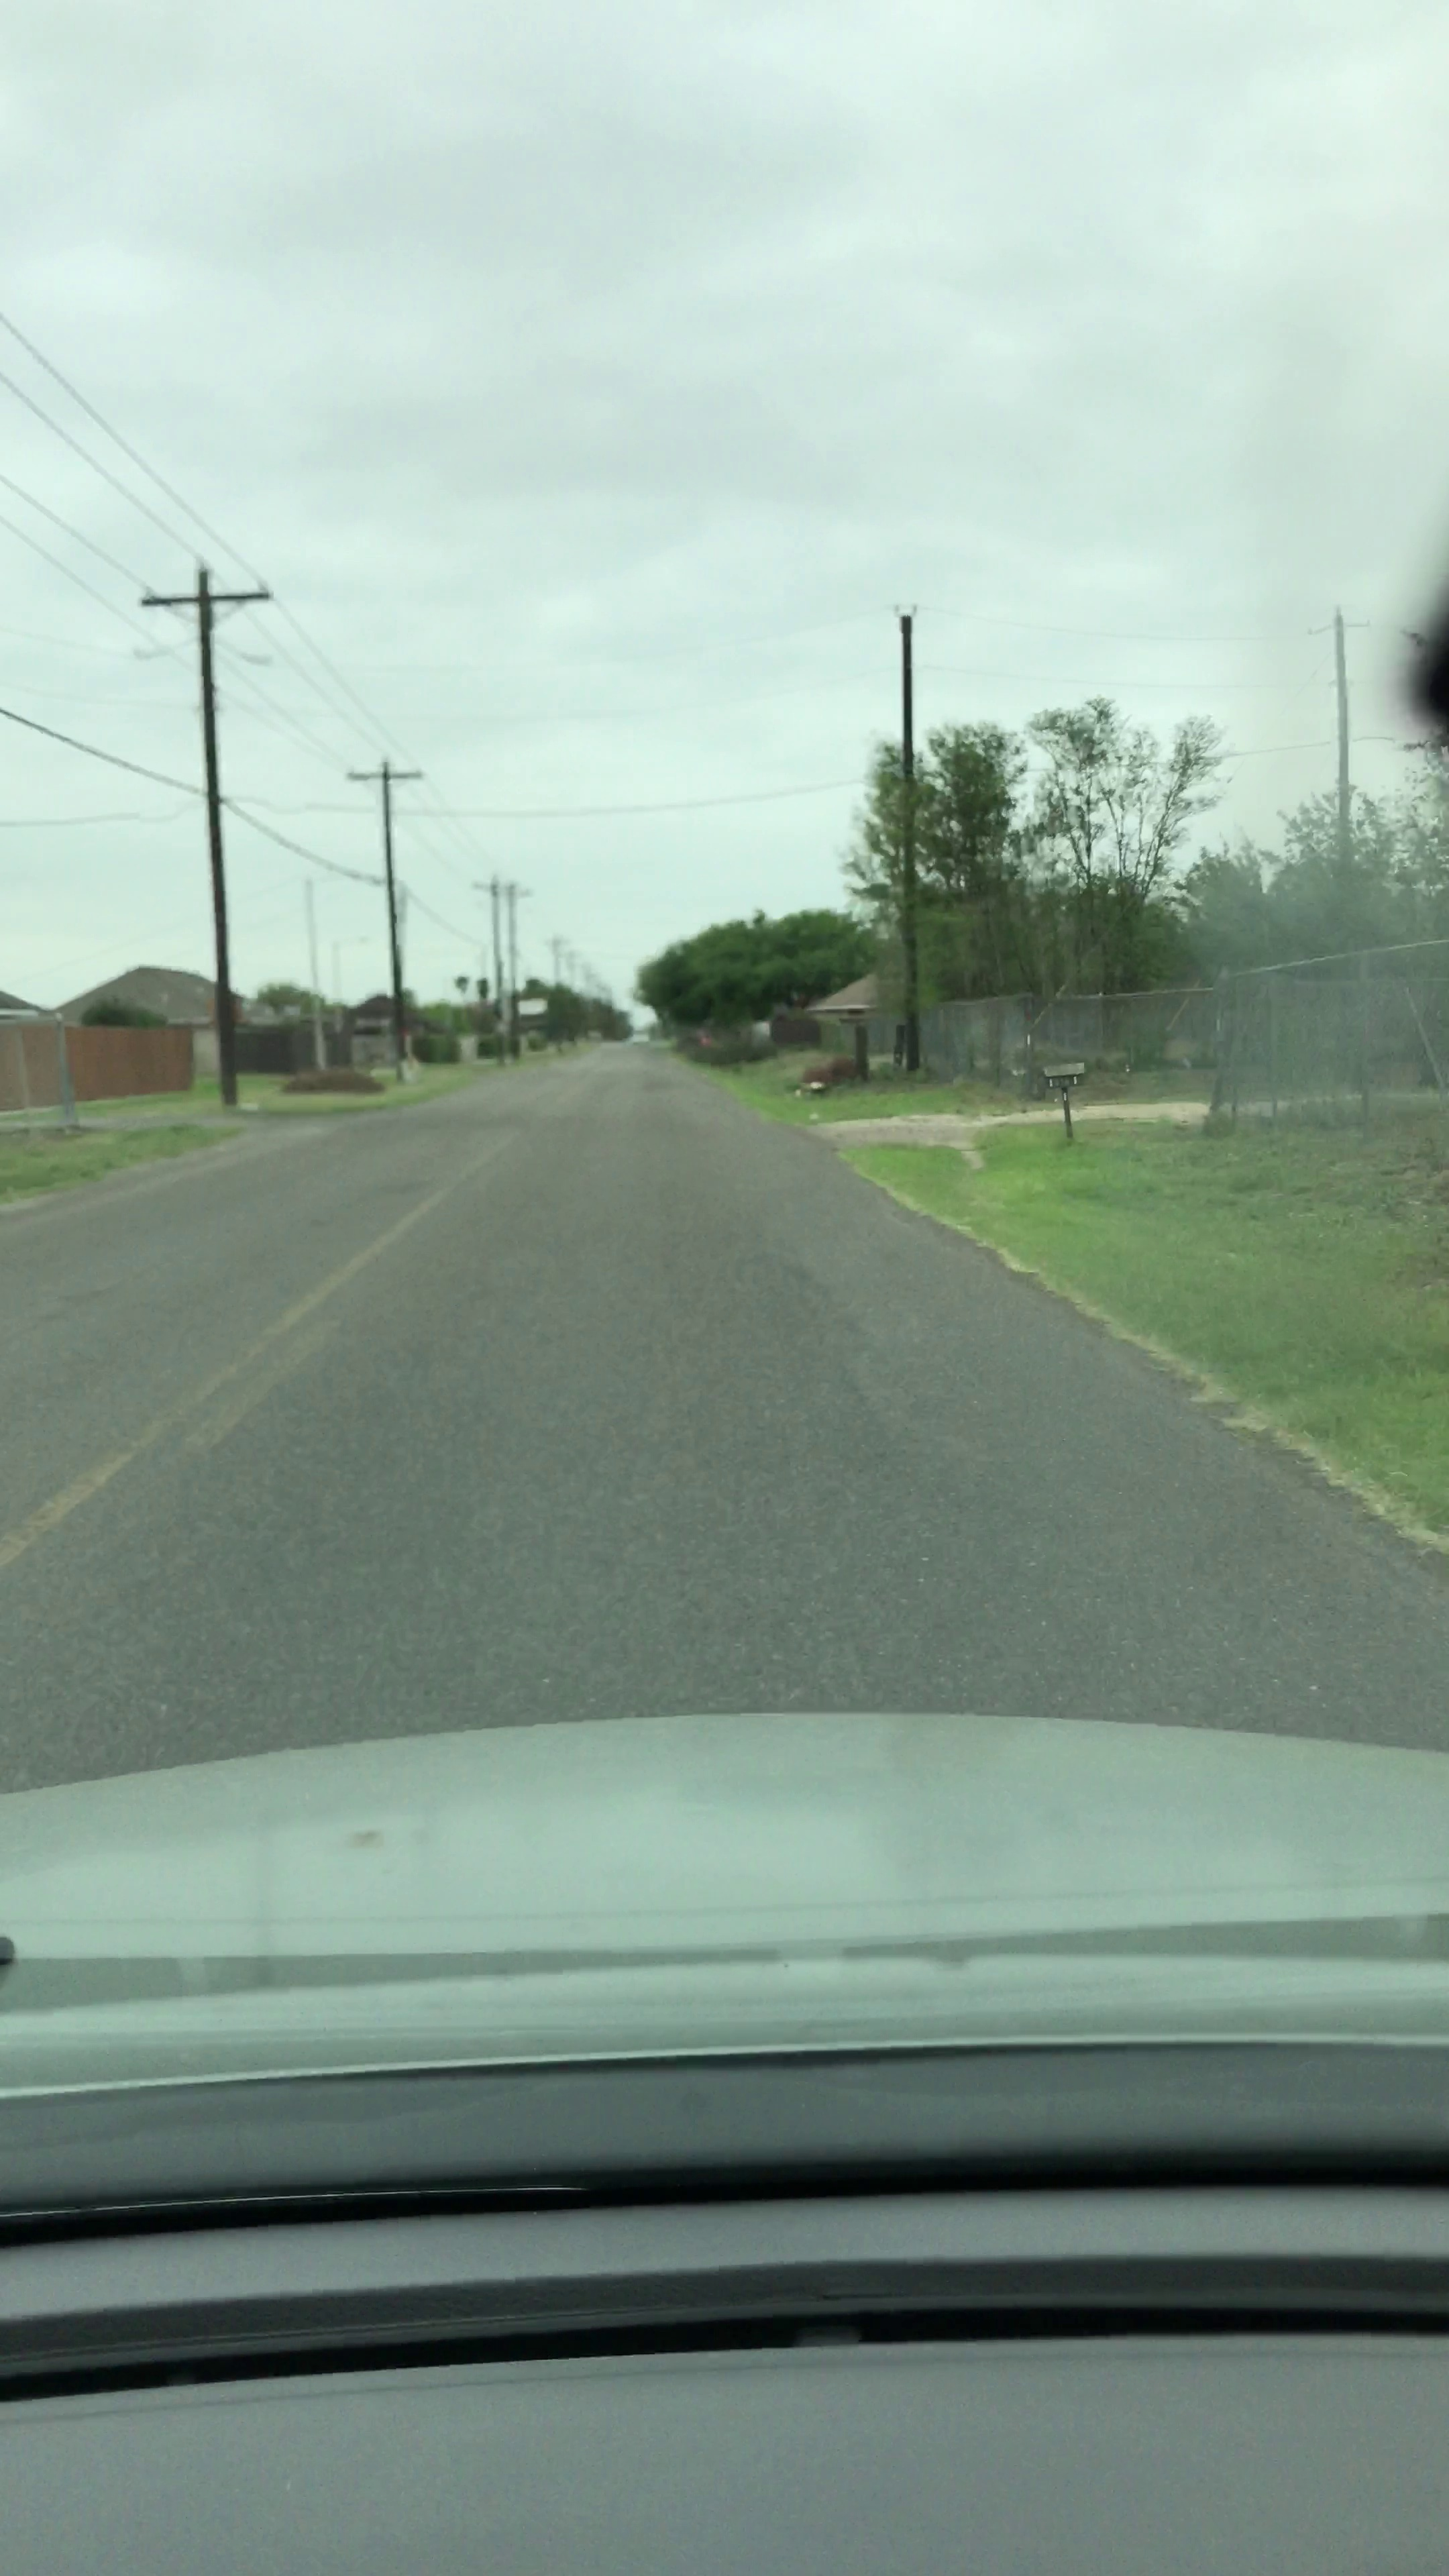blurredLine: (0, 1277, 345, 1619)
